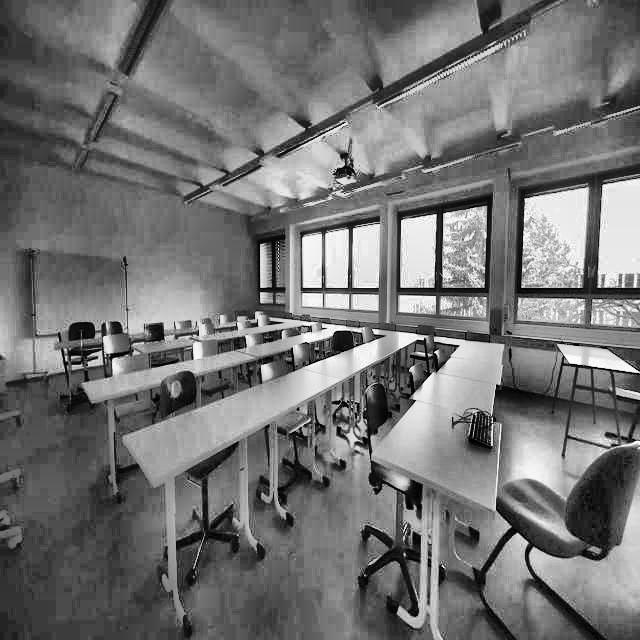ff: (106, 36, 269, 136)
